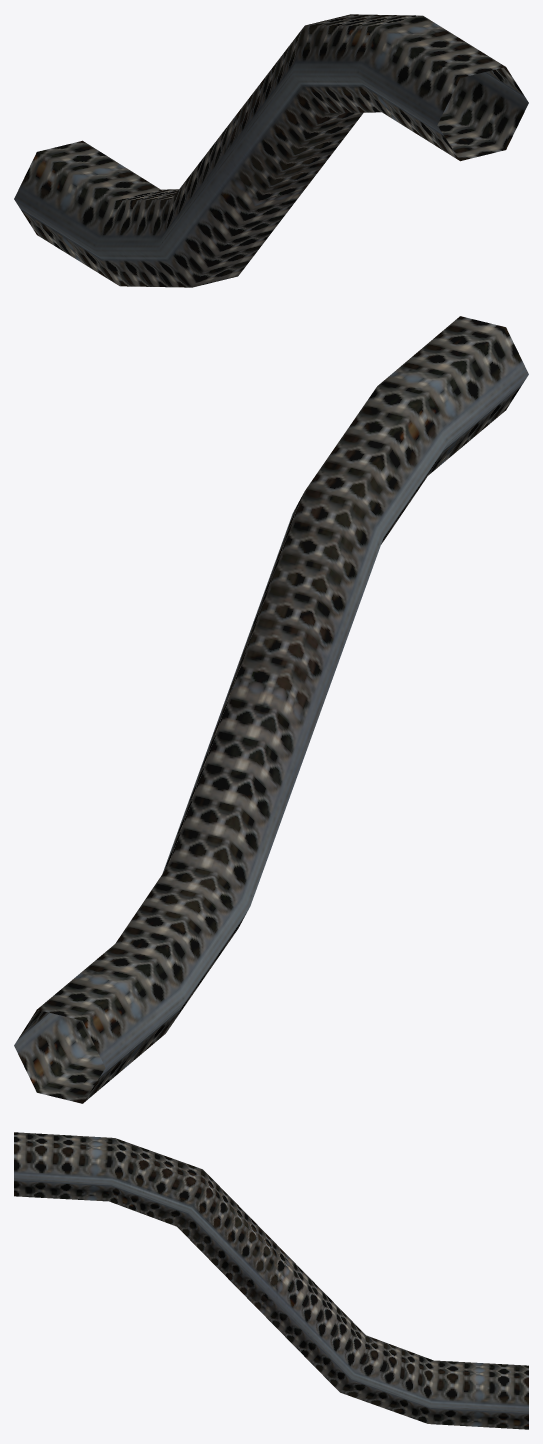
The model's file is small_mesh_limp.fbx.
3 views of the same model, one above another, from view 1: azimuth 30°, elevation 25°; view 2: azimuth 150°, elevation 25°; view 3: azimuth 270°, elevation 25° (orthographic). The views are drawn at different scales.
Parts seen in each view (by area): view 1: allPipes:polySurface6; view 2: allPipes:polySurface6; view 3: allPipes:polySurface6.
Boxes of the visible parts, x1=… form: allPipes:polySurface6: x1=14, y1=14, x2=528, y2=287; allPipes:polySurface6: x1=14, y1=316, x2=528, y2=1103; allPipes:polySurface6: x1=14, y1=1132, x2=528, y2=1429.
Size of the model in its own units: 0.25 by 1.22 by 2.
